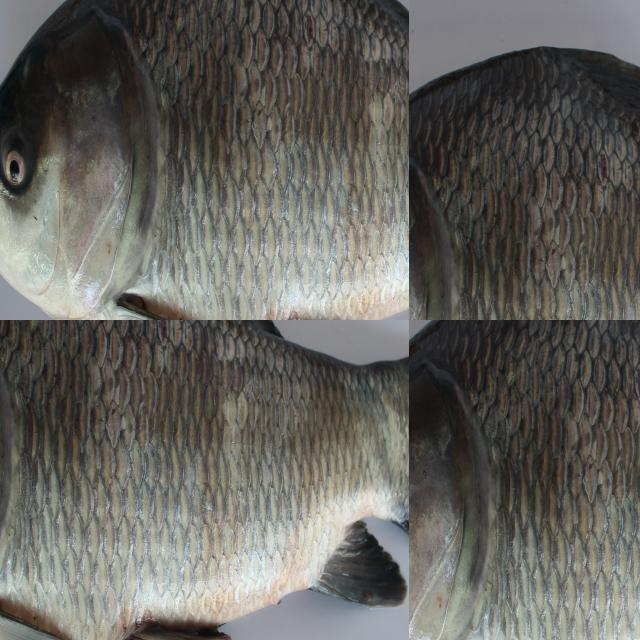fish: (409, 320, 640, 640)
